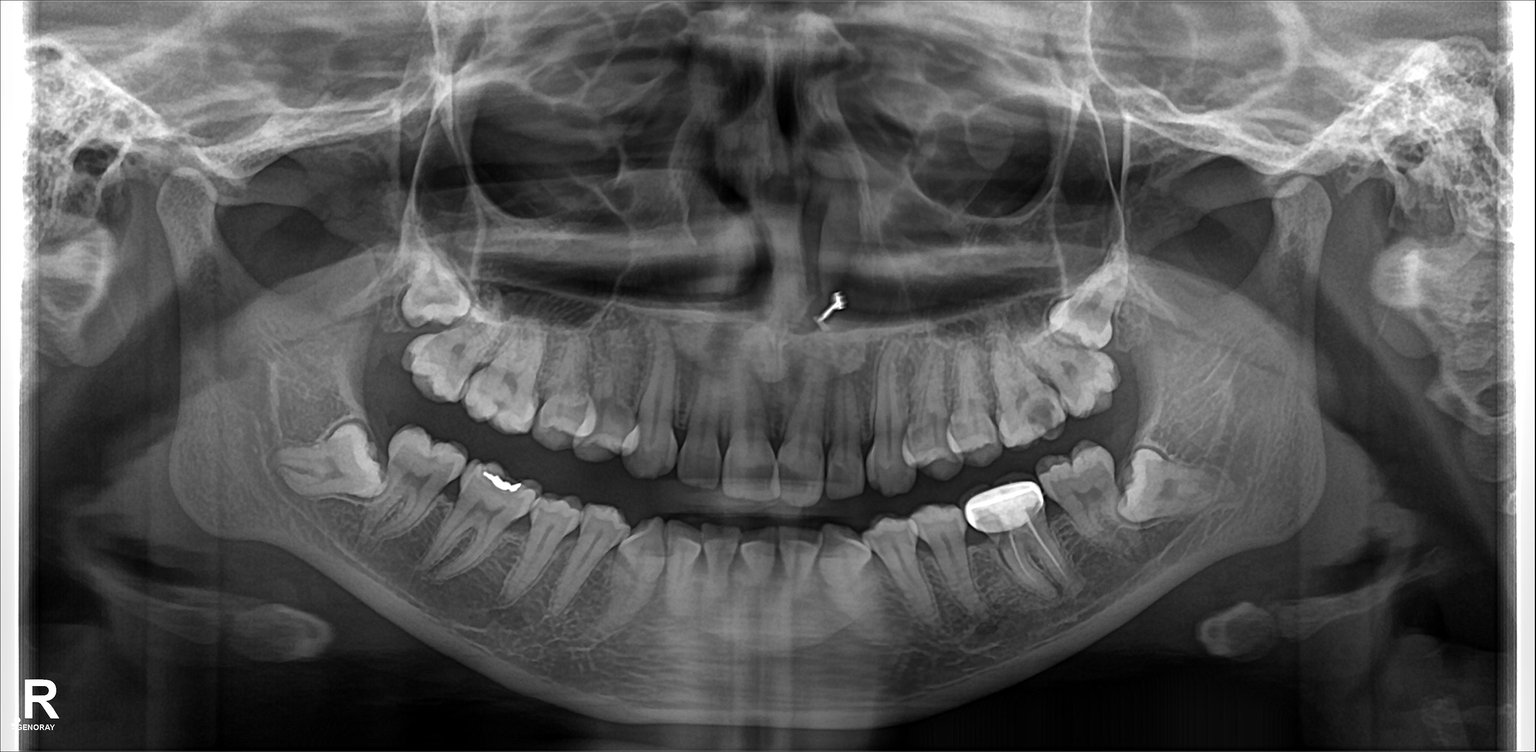Dental Caries: (1026, 391, 1056, 428)
Endodontically Treated Tooth: (983, 490, 1055, 603)
Impacted Third Molar: (285, 426, 387, 500), (1127, 450, 1229, 518), (400, 259, 468, 319), (1056, 292, 1126, 338)
Missing Tooth: (359, 287, 414, 398)
